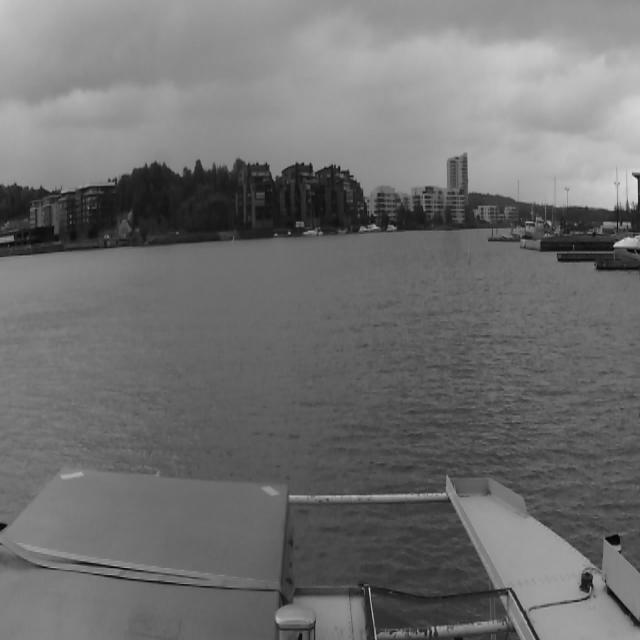buoy: (468, 232, 472, 265), (232, 229, 236, 247)
